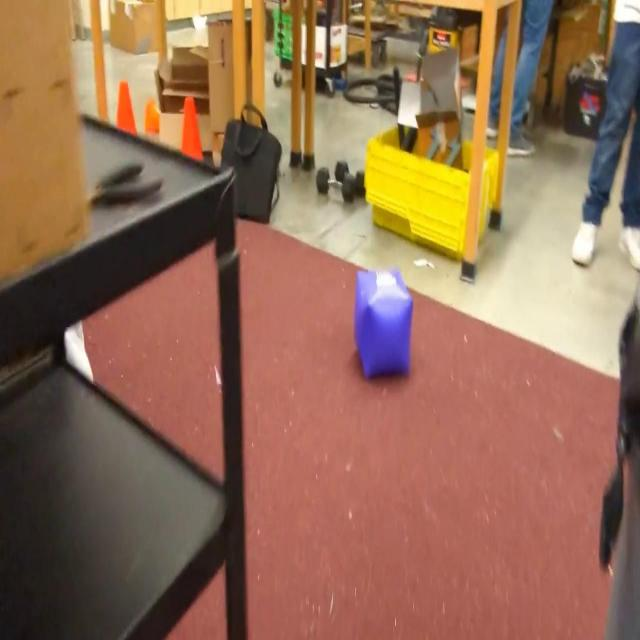frc_cube: (354, 266, 416, 383)
